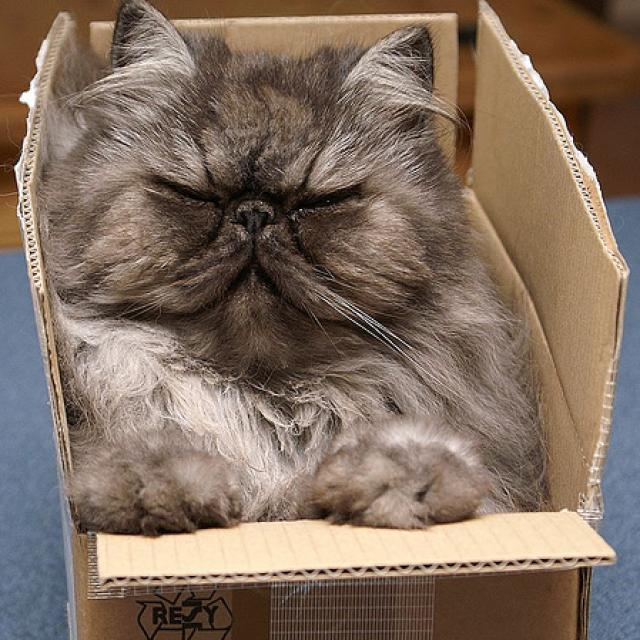Persian: (37, 0, 553, 532)
